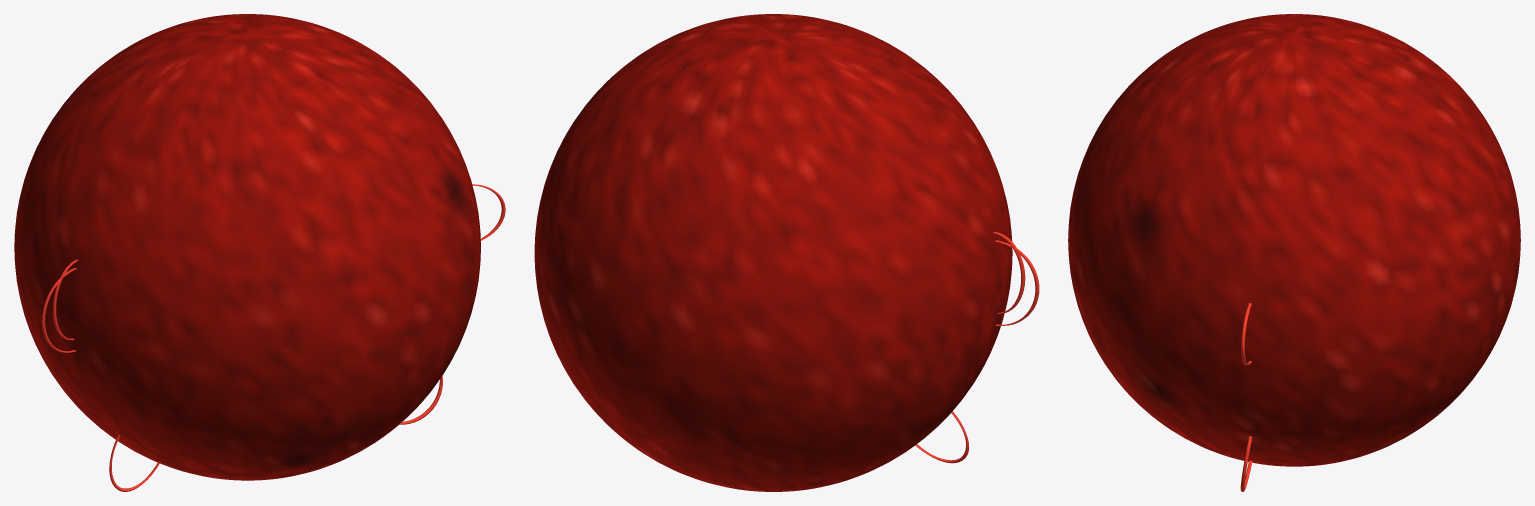
File: Star_43.fbx
3 renders of one model, left to right at view 1: azimuth 30°, elevation 25°; view 2: azimuth 150°, elevation 25°; view 3: azimuth 270°, elevation 25°, orthographic. The views are drawn at different scales.
Visible parts, largest first — view 1: Star_43; view 2: Star_43; view 3: Star_43.
Boxes of the visible parts, x1,y1,x2,y2 form: Star_43: (14, 14, 505, 491); Star_43: (534, 14, 1039, 491); Star_43: (1068, 14, 1520, 491).
Size of the model in its own units: 229 by 200 by 200.
